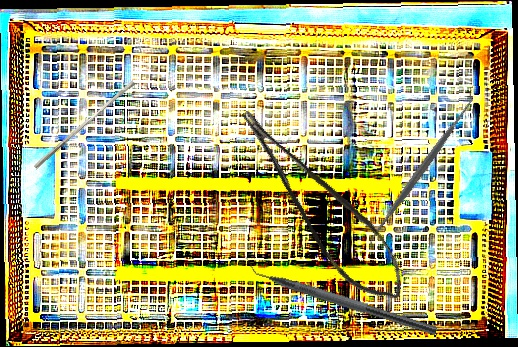Chopper: (238, 253, 442, 336)
Micro Scissor: (234, 85, 417, 319)
Pusher: (33, 76, 136, 174)
Spatula Surgical: (359, 89, 484, 249)
